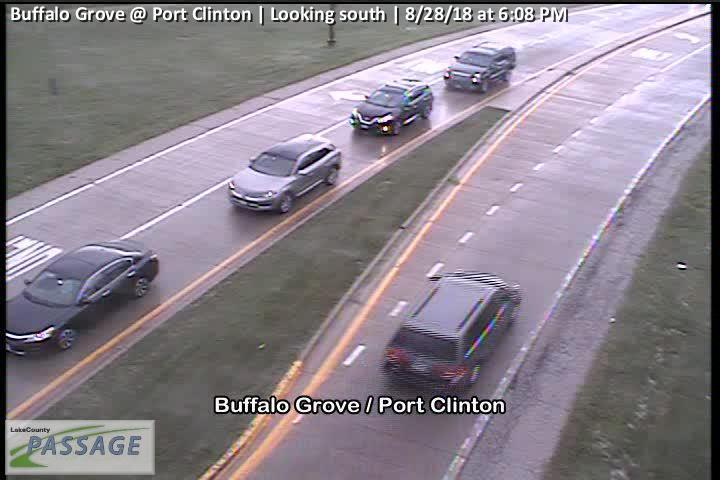SUV: (382, 271, 519, 393), (349, 77, 434, 137), (442, 39, 516, 93)
Sedan: (1, 241, 160, 357), (226, 132, 343, 212)
